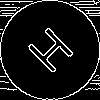H: (25, 25, 83, 83)
